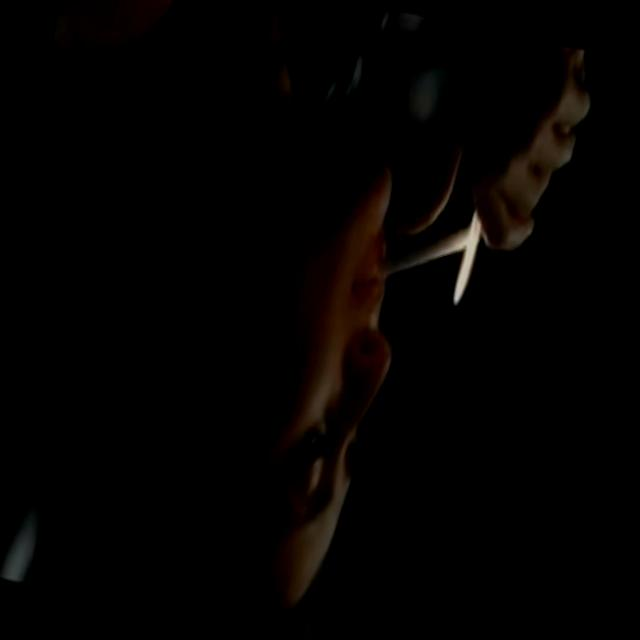smoke: (366, 195, 494, 304)
